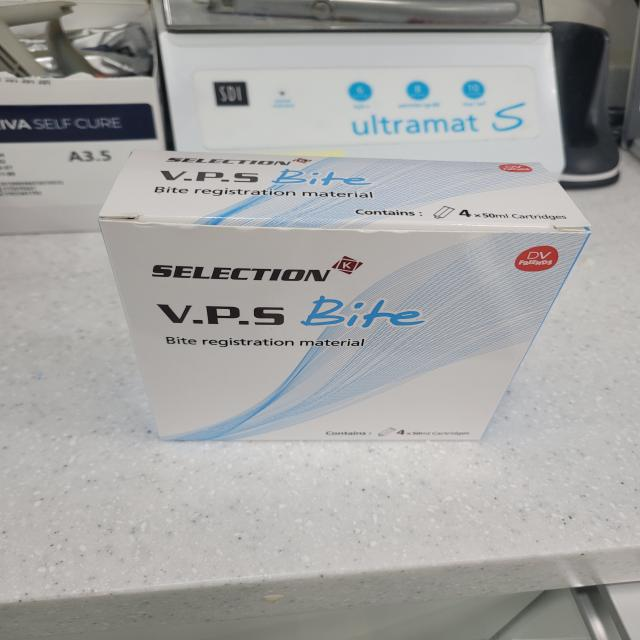impression: (73, 132, 592, 472)
